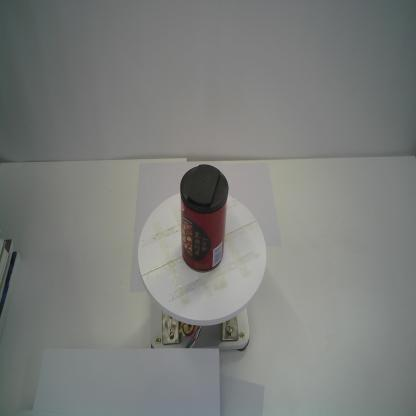Canned Food: (179, 162, 229, 274)
